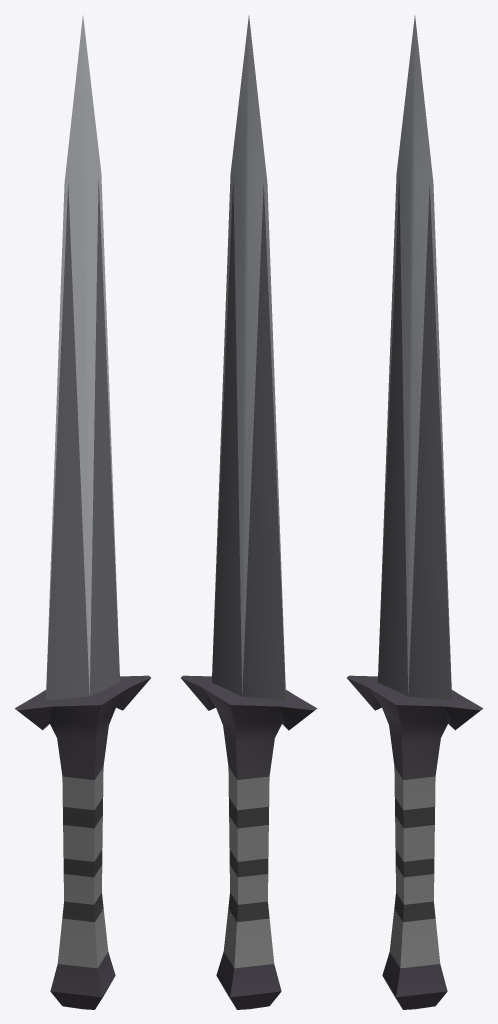
The model's file is Dagger_5.fbx.
3 renders of one model, left to right at view 1: azimuth 30°, elevation 25°; view 2: azimuth 150°, elevation 25°; view 3: azimuth 330°, elevation 25°, orthographic.
Parts seen in each view (by area): view 1: polySurface212; view 2: polySurface212; view 3: polySurface212.
Part boxes in pixels (x1,y1,x2,y2): polySurface212: (15,15,151,1009); polySurface212: (180,15,316,1009); polySurface212: (346,15,482,1009).
Size of the model in its own units: 32.72 by 232 by 15.91.
